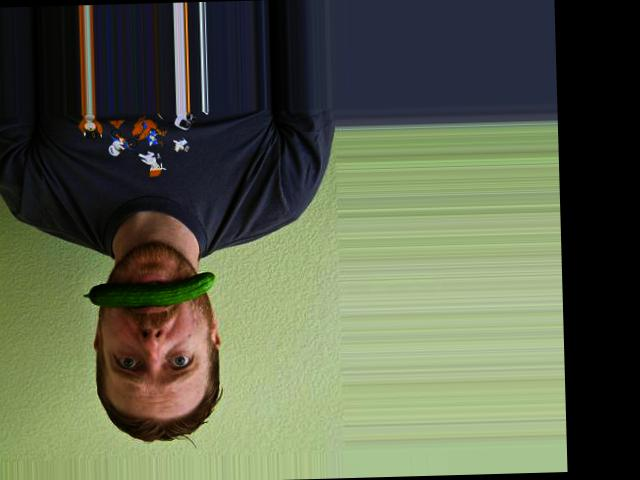cucumber: (83, 271, 217, 308)
